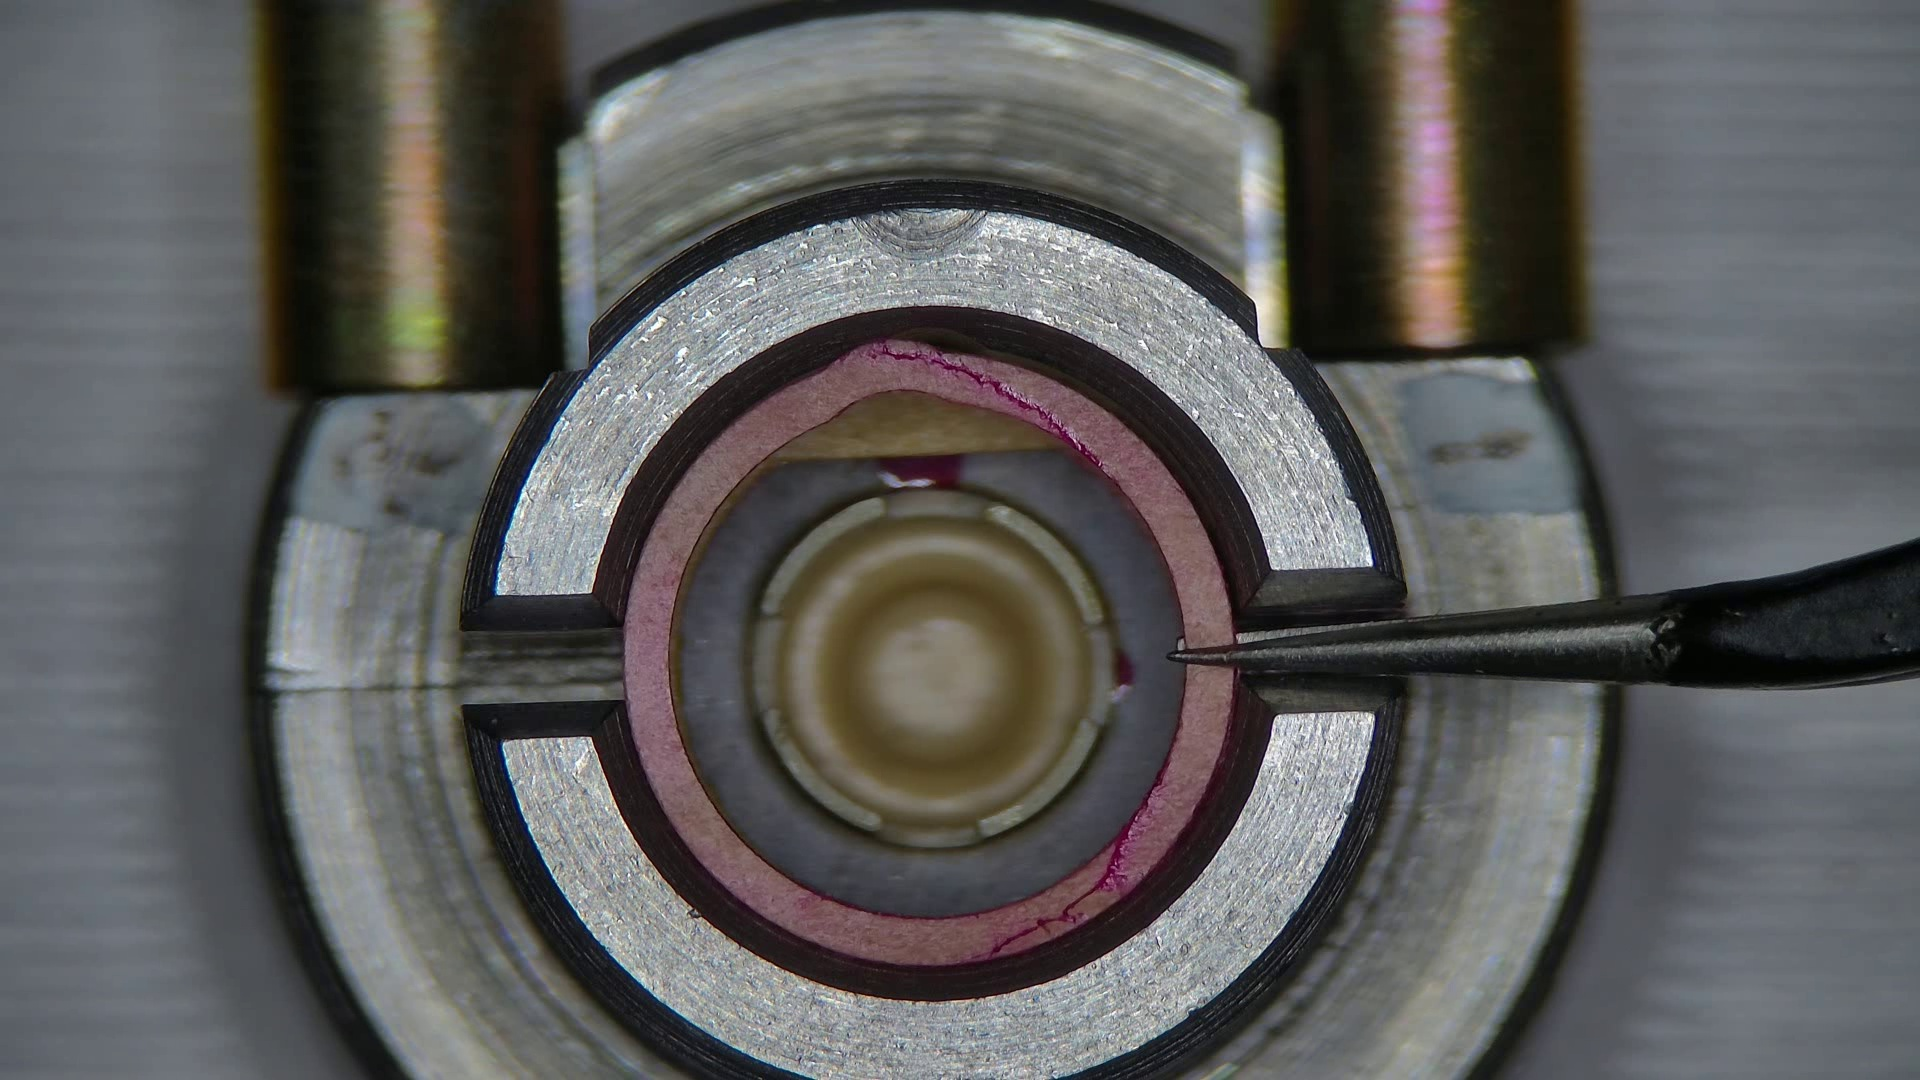GreyOring: (624, 342, 1236, 967)
YellowOring: (673, 452, 1179, 916)
redOring: (765, 392, 1069, 462)
